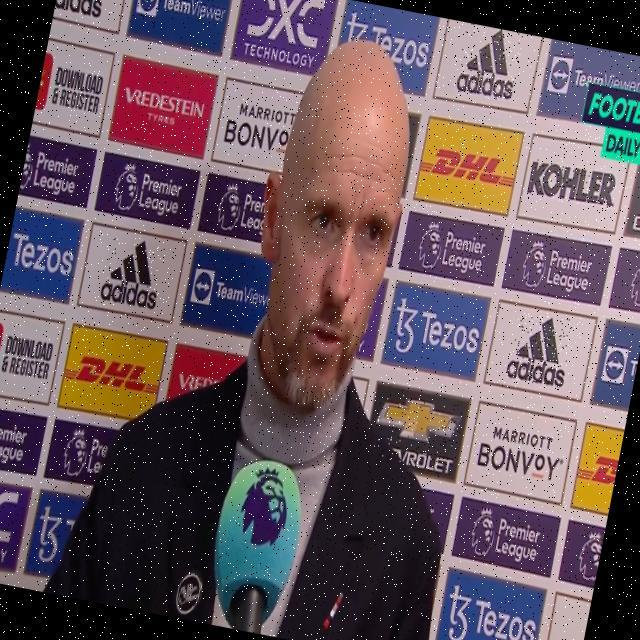Adidas: (505, 310, 576, 389), (454, 23, 524, 103), (99, 233, 168, 312)
Chevrolet: (369, 392, 465, 476)
Kohler: (528, 159, 619, 211)
TeamViewer: (136, 0, 230, 28)
